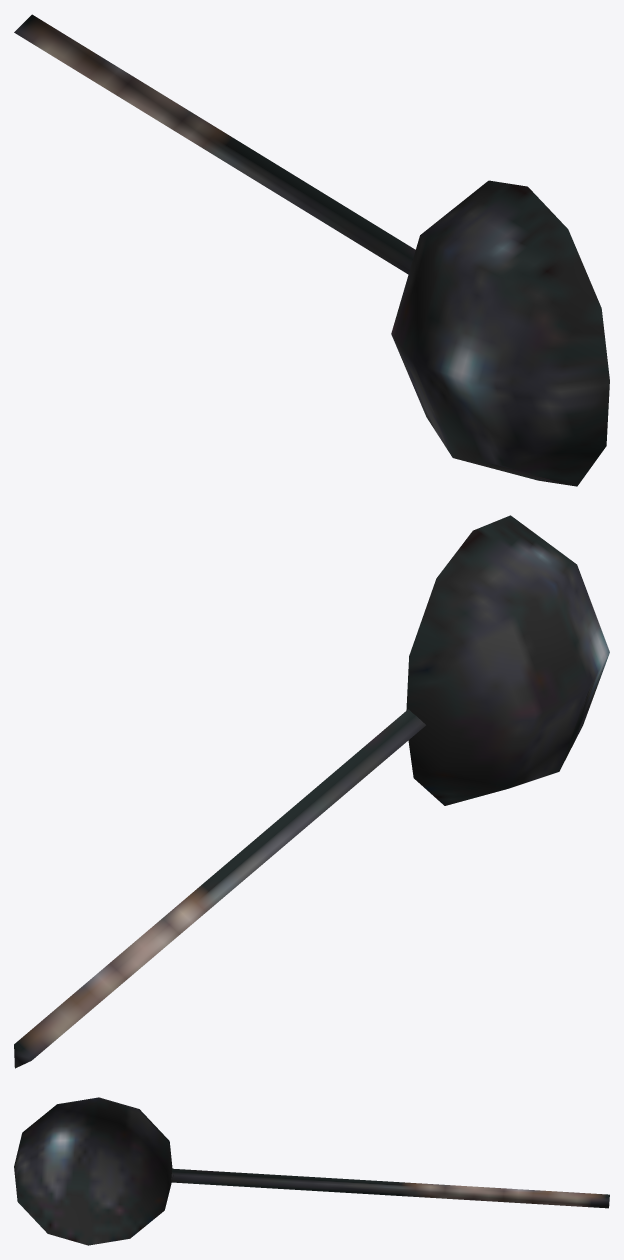
File: cookware3.obj
The picture shows the model from 3 angles, top to bottom: view 1: azimuth 30°, elevation 25°; view 2: azimuth 150°, elevation 25°; view 3: azimuth 270°, elevation 25°; orthographic projection. The views are drawn at different scales.
Visible parts, largest first — view 1: npc_03-0001-39; view 2: npc_03-0001-39; view 3: npc_03-0001-39.
Boxes of the visible parts, x1,y1,x2,y2 form: npc_03-0001-39: (14, 14, 609, 486); npc_03-0001-39: (14, 515, 609, 1068); npc_03-0001-39: (14, 1097, 609, 1245).
Bounding box in the file's own units: 8.18 × 18.88 × 68.8.
